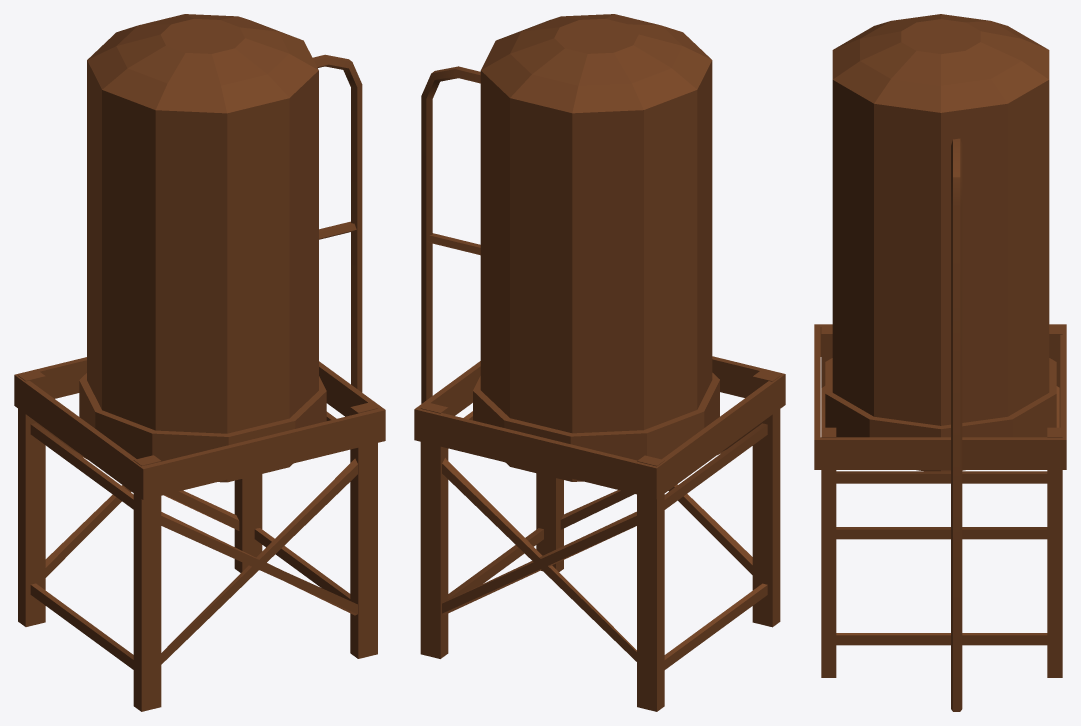
The model's file is SM_gastank_01.fbx.
The picture shows the model from 3 angles, left to right: view 1: azimuth 30°, elevation 25°; view 2: azimuth 150°, elevation 25°; view 3: azimuth 270°, elevation 25°; orthographic projection. The views are drawn at different scales.
Visible parts, largest first — view 1: Line019; view 2: Line019; view 3: Line019.
Part boxes in pixels (bbox=[...]): Line019: bbox=[14, 14, 385, 711]; Line019: bbox=[414, 14, 785, 711]; Line019: bbox=[814, 14, 1066, 711].
Size of the model in its own units: 86.46 by 174 by 66.63.
